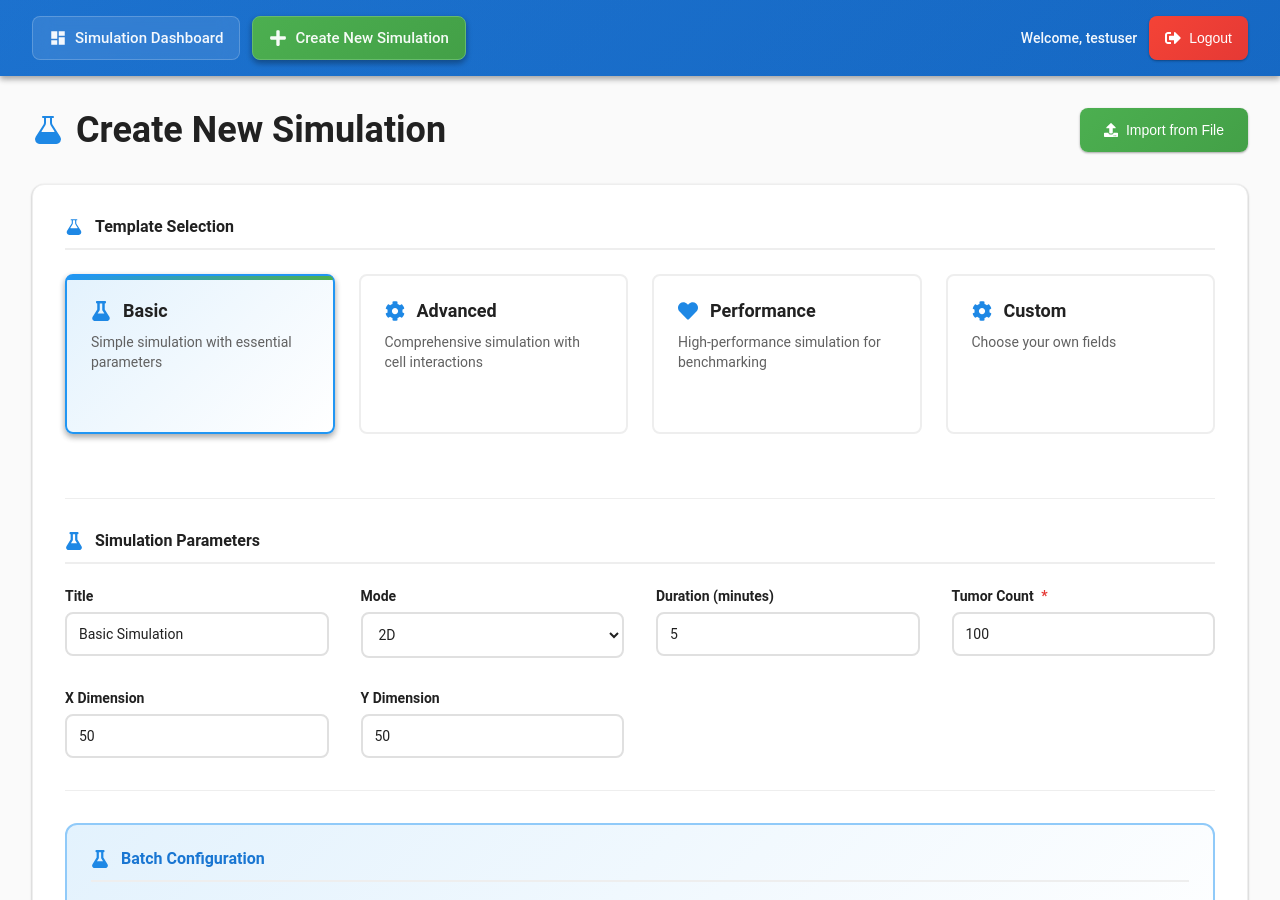
CreateSimulation Component › shows custom field selection when custom template is selected
The width and height of the screenshot is (1280, 900).
Click the radio button showing "custom": (1080, 354) [946,274,1215,434]
(page scrolled)
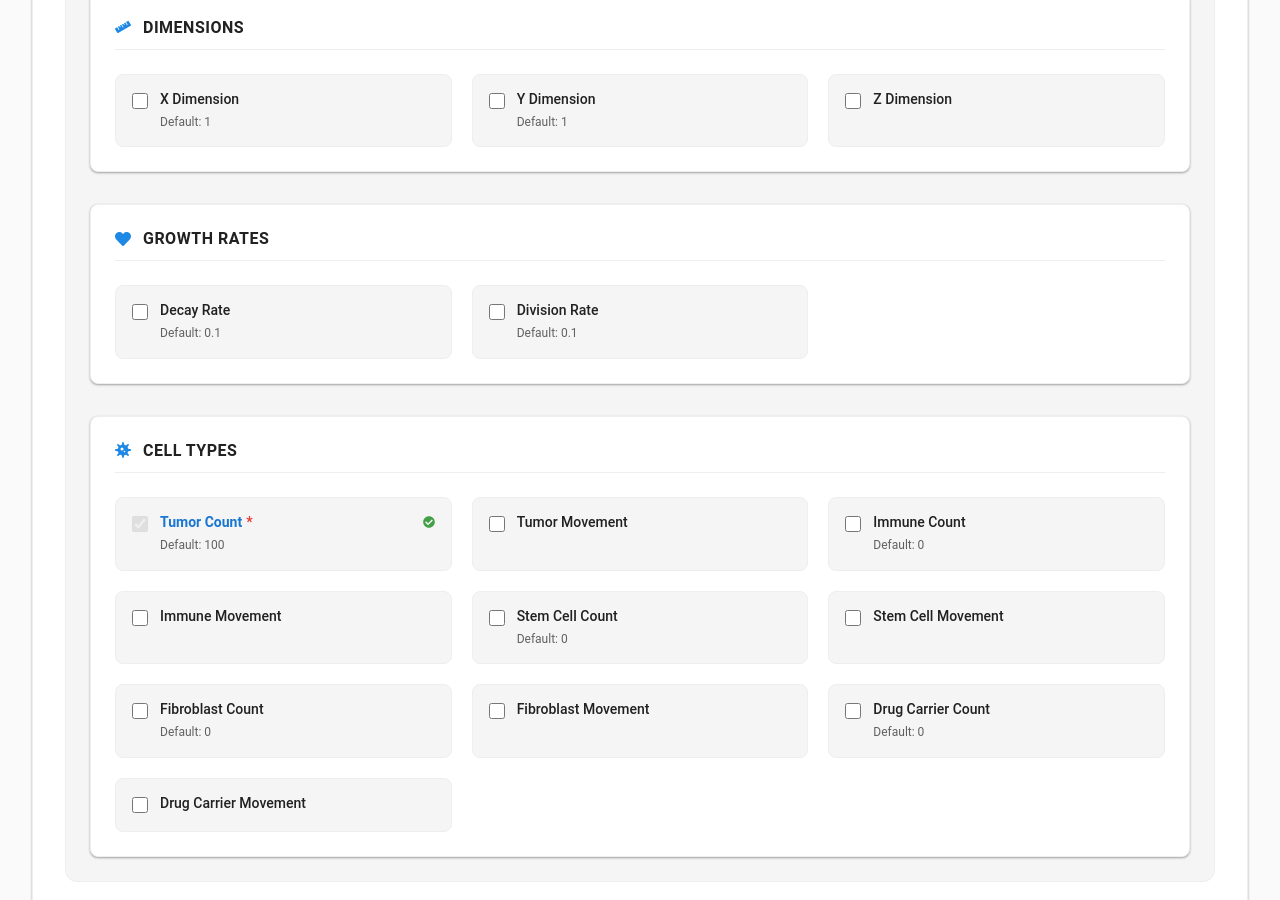
Now the heading "Cell Types" is shown, box [143,441,237,460]
